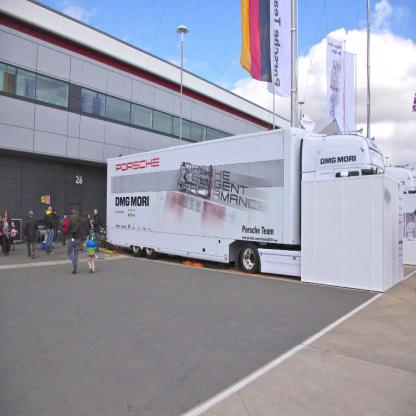Truck: (107, 134, 410, 285)
